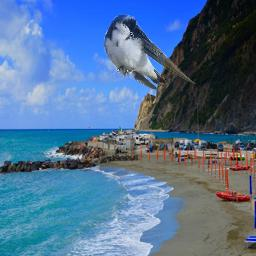Swallow: (102, 13, 196, 91)
